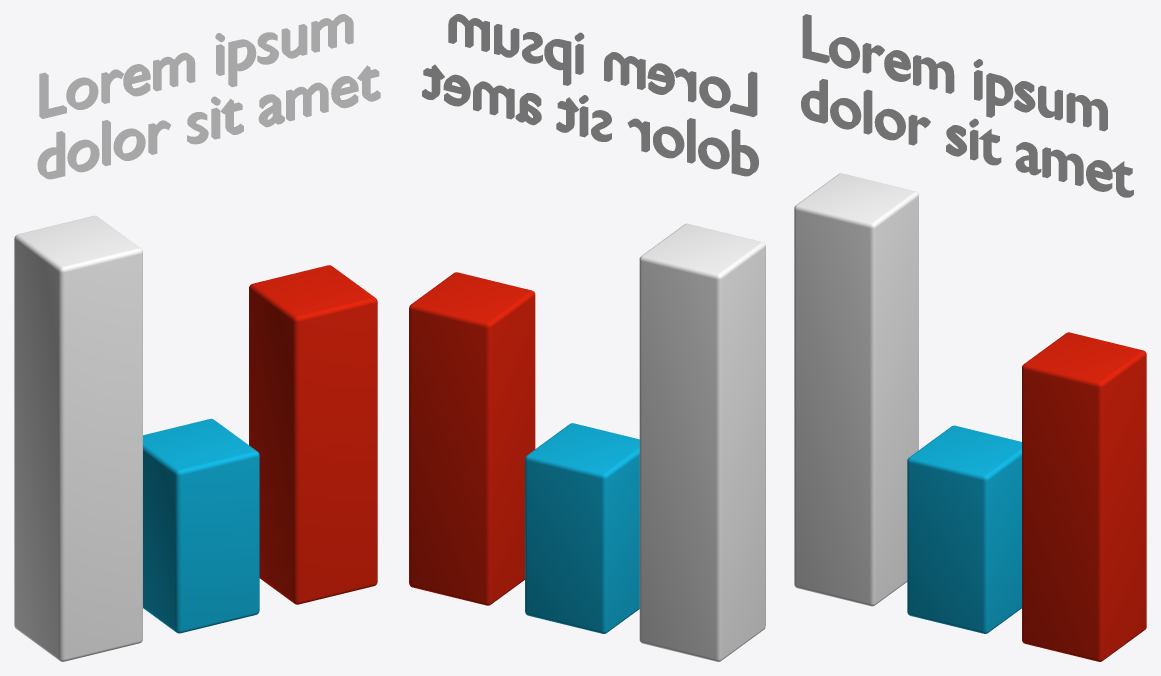
Rendered from stats.gltf.
The picture shows the model from 3 angles, left to right: view 1: azimuth 30°, elevation 25°; view 2: azimuth 150°, elevation 25°; view 3: azimuth 330°, elevation 25°; orthographic projection. The views are drawn at different scales.
Visible parts, largest first — view 1: Cube, Cube.002, Cube.001, Text.001; view 2: Cube, Cube.002, Cube.001, Text.001; view 3: Cube, Cube.002, Cube.001, Text.001.
Boxes of the visible parts, <box> form: Cube: <box>14,215,142,661</box>; Cube.002: <box>249,265,377,604</box>; Cube.001: <box>143,418,259,633</box>; Text.001: <box>37,14,380,179</box>; Cube: <box>639,223,765,661</box>; Cube.002: <box>409,272,535,605</box>; Cube.001: <box>525,423,639,633</box>; Text.001: <box>422,14,758,176</box>; Cube: <box>794,173,918,606</box>; Cube.002: <box>1022,332,1146,661</box>; Cube.001: <box>907,425,1021,633</box>; Text.001: <box>801,14,1133,197</box>.
Bounding box in the file's own units: 1.04 × 1.69 × 0.2563.
